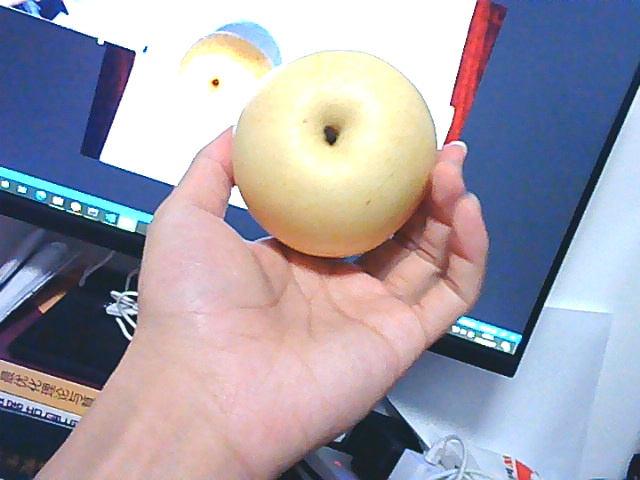pear: (234, 55, 429, 257)
